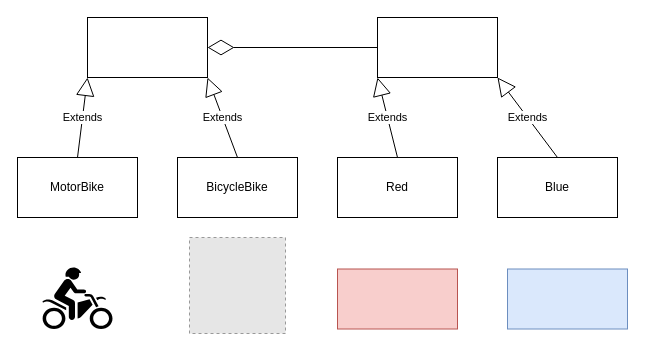
The diagram is 645 pixels wide and 351 high, and some of its shapes have lost their labels. Grey dashed boxes stand in for pictures. The shapes that lost their labels are listed below. From the top down, each one's centre as x and y in pixels, then its label:
the point at 147,47: vehicle
the point at 437,47: color
